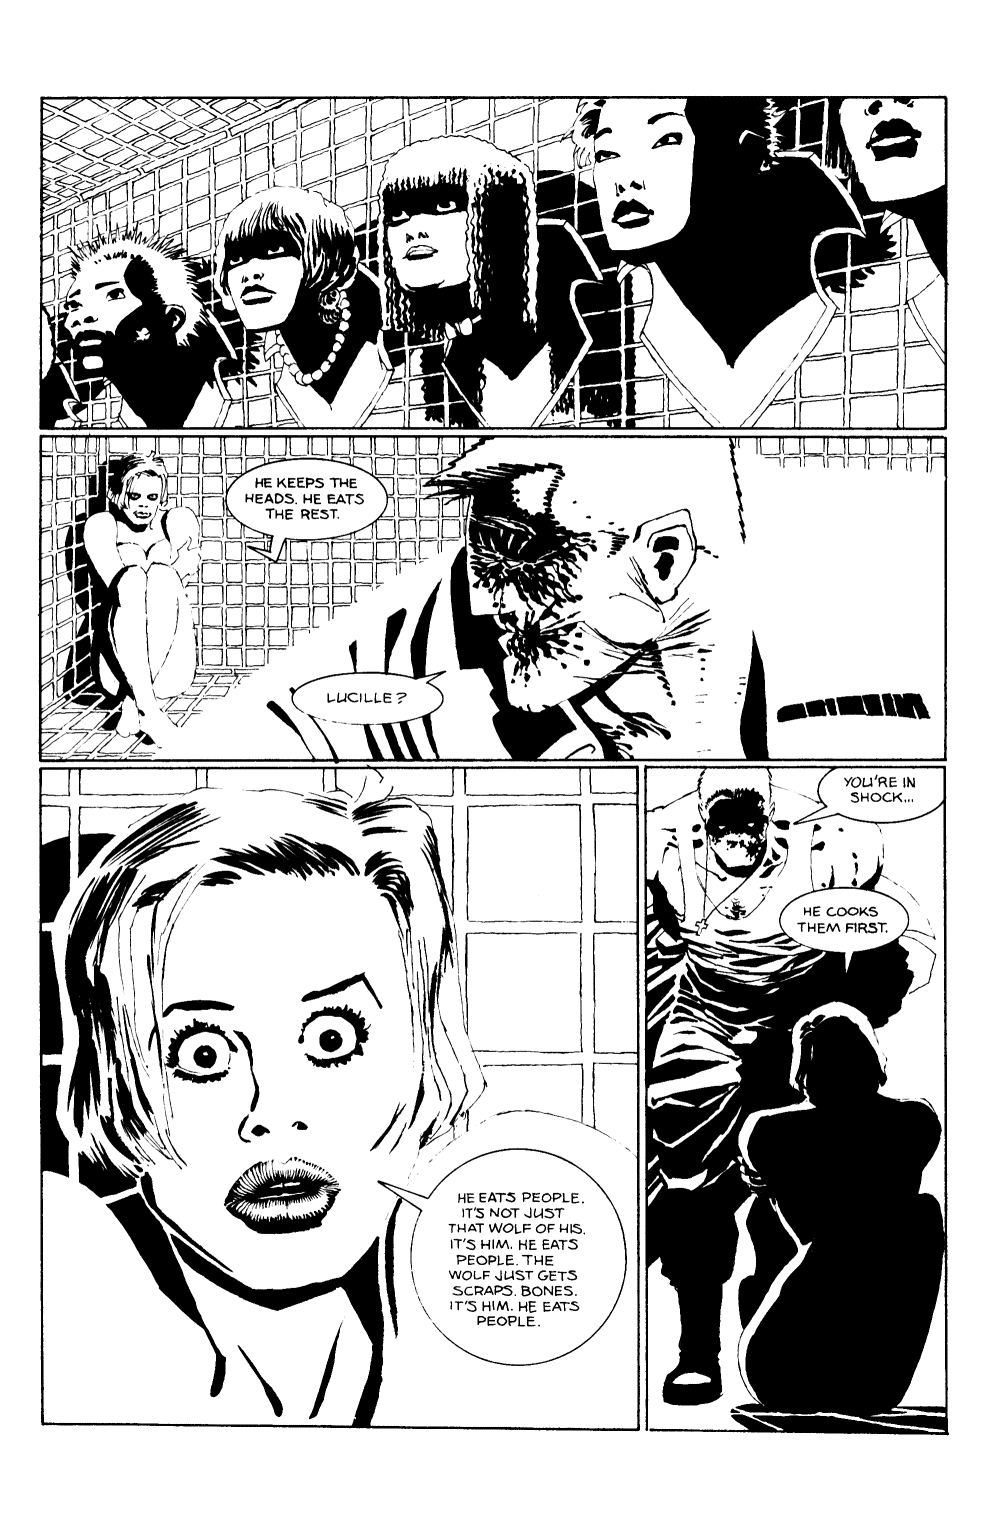Baloon: (381, 1147, 629, 1366), (223, 456, 387, 566), (771, 887, 915, 980), (797, 768, 946, 842), (290, 670, 450, 731)
Vignetta: (41, 770, 639, 1431), (41, 96, 948, 428), (41, 436, 946, 759), (646, 768, 948, 1431)
